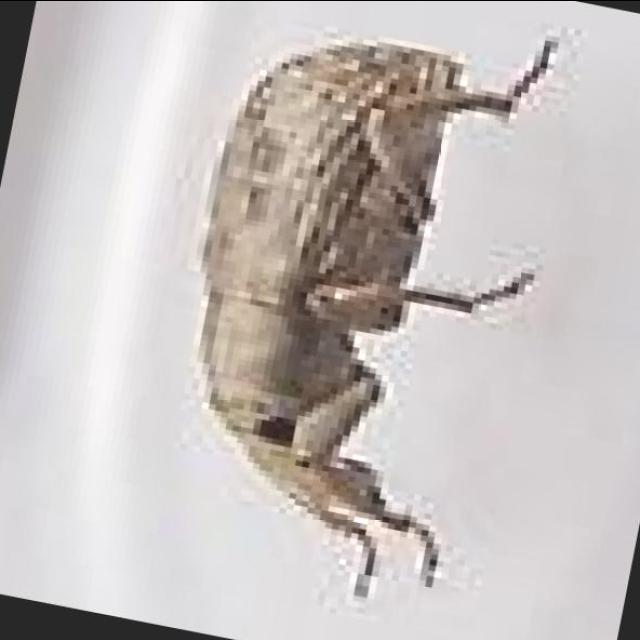ricebug: (198, 40, 554, 586)
